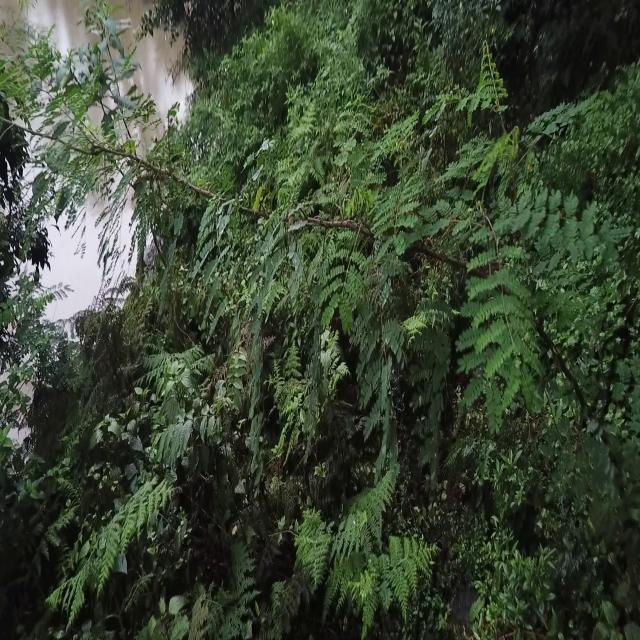Mysore-Thorn-Weed: (427, 37, 640, 539), (246, 78, 414, 403), (0, 90, 232, 305)
